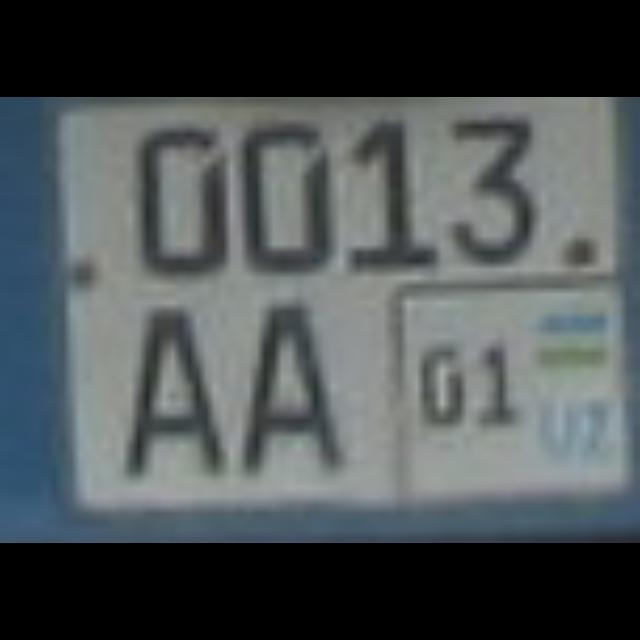0: (236, 114, 320, 266), (135, 122, 219, 266), (413, 333, 455, 417)
1: (118, 299, 218, 467), (345, 114, 421, 256), (463, 333, 505, 417)
3: (446, 105, 522, 257)
A: (236, 290, 336, 468)
